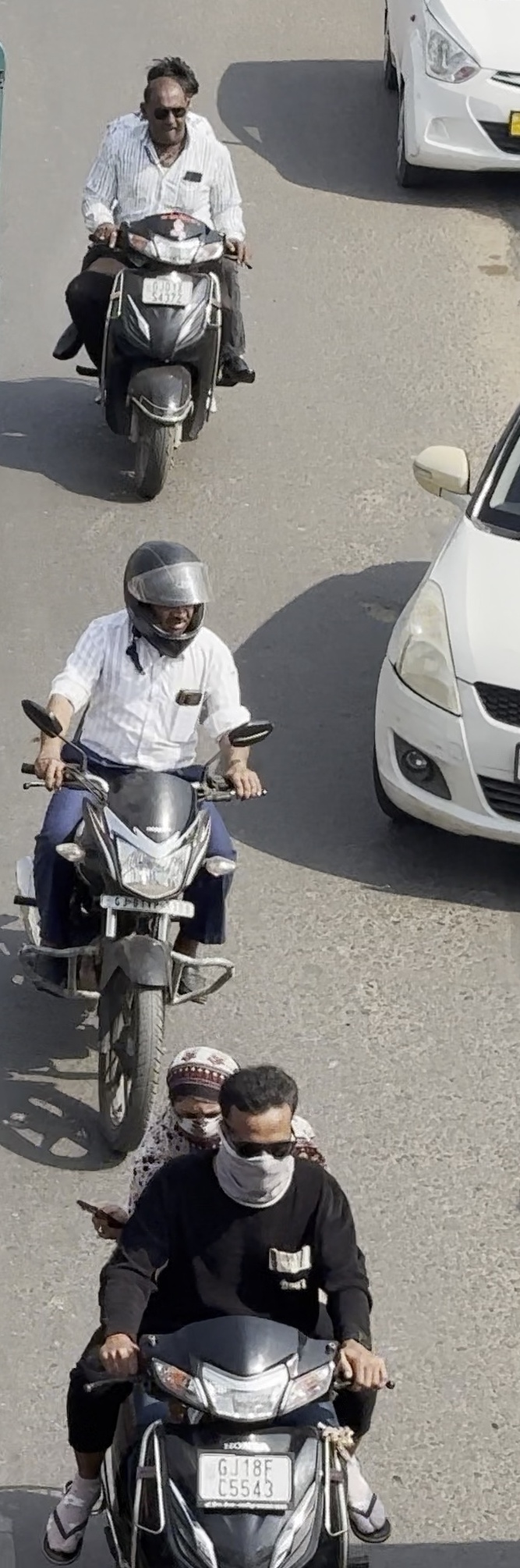BikeWithRider: (42, 1031, 409, 1568), (0, 529, 291, 1175), (42, 44, 278, 510)
Helmet: (105, 531, 220, 663)
NoHelmet: (208, 1062, 327, 1232), (153, 1031, 262, 1161), (126, 52, 207, 161)
